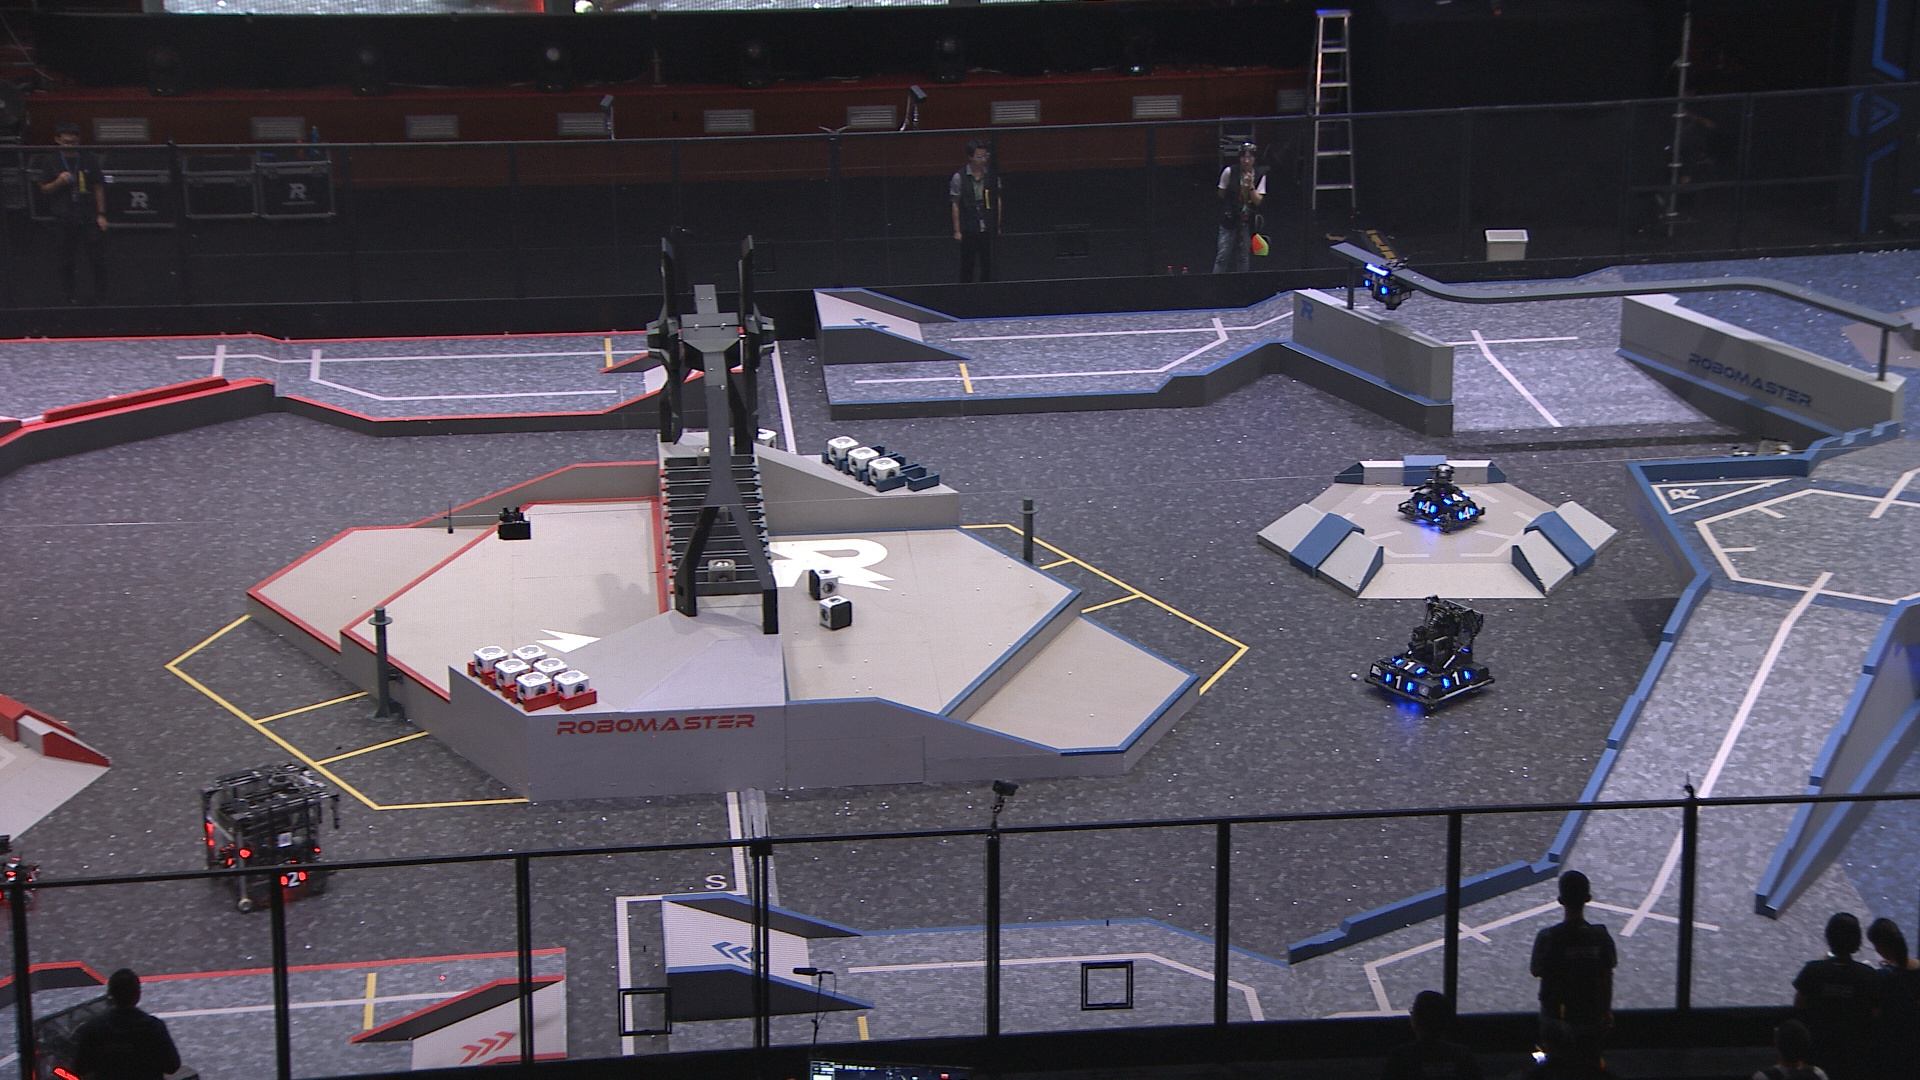armor: (1386, 670, 1414, 694), (1437, 669, 1472, 687), (1395, 655, 1425, 675), (280, 868, 309, 887), (1364, 277, 1390, 297), (7, 853, 26, 878), (1443, 491, 1470, 506), (1415, 498, 1439, 517), (1453, 505, 1477, 520), (225, 855, 240, 873)
car: (199, 756, 352, 913), (1361, 589, 1499, 712), (1709, 433, 1833, 553), (16, 993, 153, 1080), (1395, 462, 1489, 531)
watcher: (1360, 253, 1416, 310)
